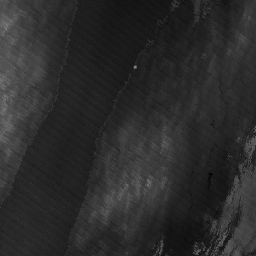Target: (132, 63, 138, 70)
